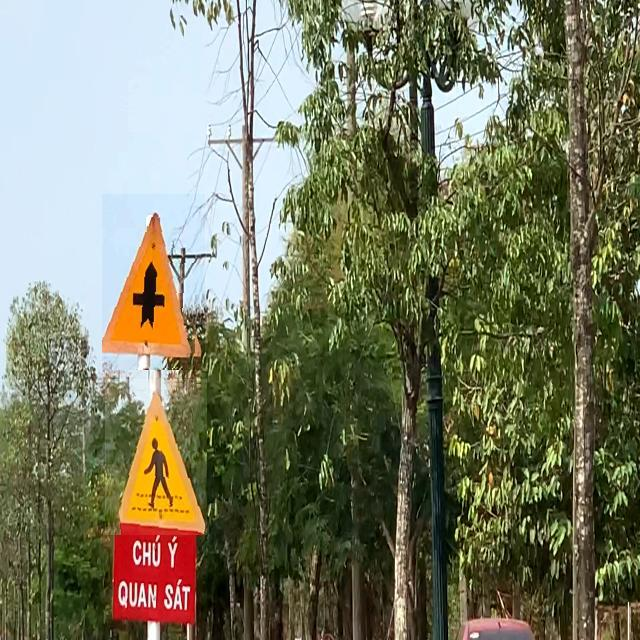W-207a: (102, 194, 205, 370)
W-224: (105, 379, 207, 535)
